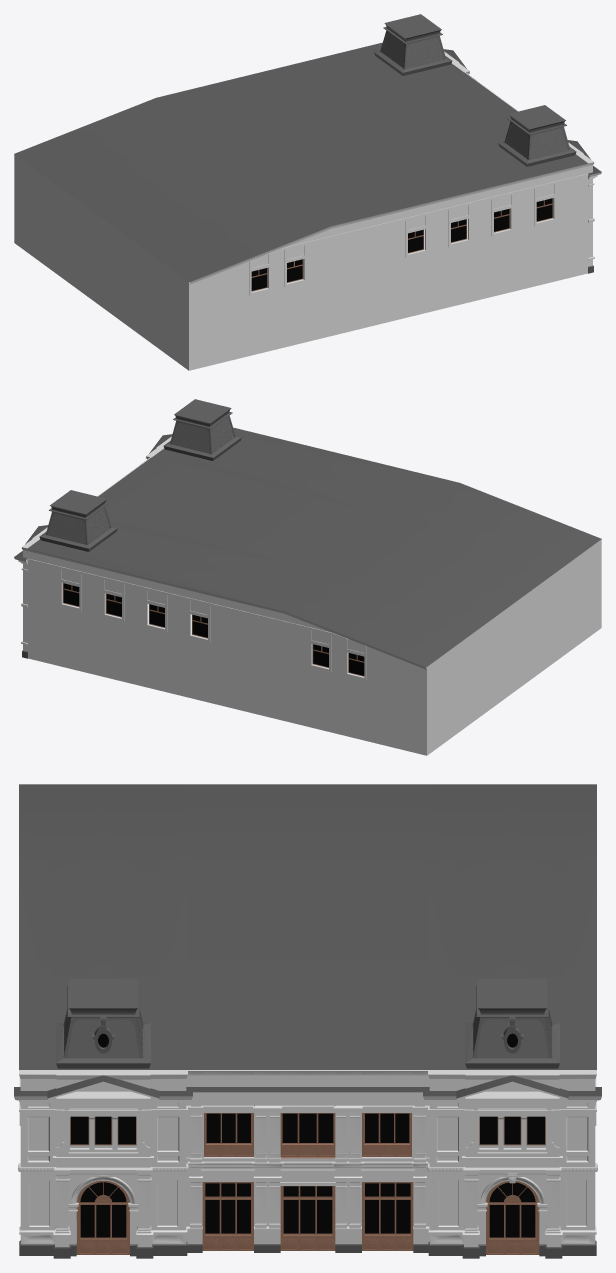
The model's file is ngan-hang-pho-di-bo.glb.
3 views of the same model, one above another, from view 1: azimuth 30°, elevation 25°; view 2: azimuth 150°, elevation 25°; view 3: azimuth 270°, elevation 25° (orthographic). The views are drawn at different scales.
Visible parts, largest first — view 1: Cube.093; view 2: Cube.093; view 3: Cube.093.
Boxes of the visible parts, <box> form: Cube.093: <box>14,14,601,370</box>; Cube.093: <box>14,399,601,755</box>; Cube.093: <box>14,784,601,1258</box>.
Size of the model in its own units: 21.02 by 7 by 15.71.
Materials: 1 (1 with a texture image).
